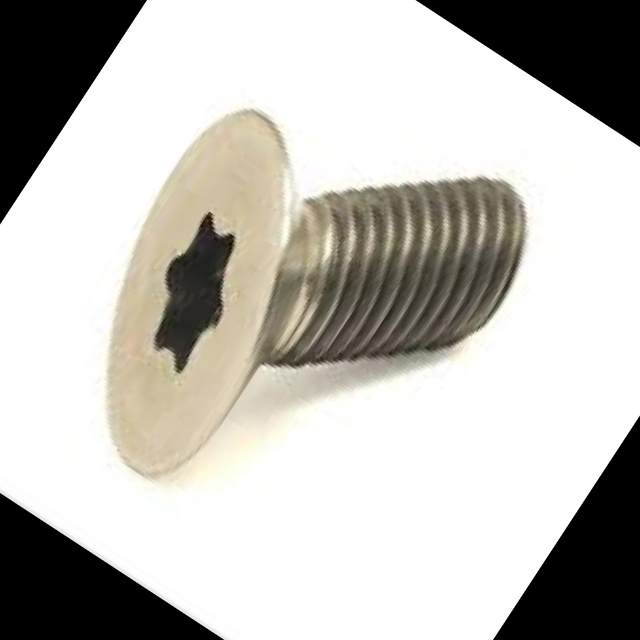torx: (21, 86, 377, 499)
